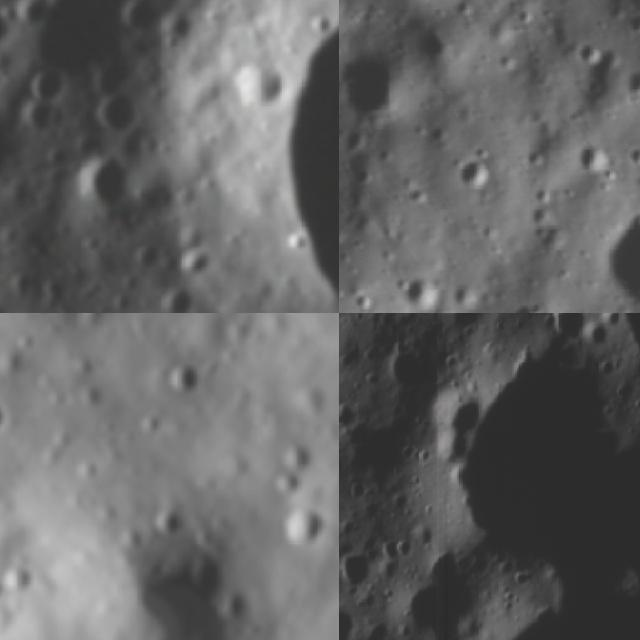crater: (14, 0, 339, 313), (88, 530, 277, 640), (401, 551, 495, 640), (60, 137, 151, 228), (339, 42, 409, 130), (81, 72, 157, 150), (78, 29, 154, 106), (264, 489, 339, 565), (0, 88, 41, 201), (23, 51, 85, 113), (608, 195, 640, 313), (139, 492, 199, 552), (153, 352, 213, 406), (52, 313, 136, 346), (447, 151, 489, 199), (568, 134, 606, 185), (276, 436, 319, 481), (541, 313, 596, 348), (402, 268, 443, 313), (0, 560, 38, 603), (0, 0, 26, 59), (339, 548, 371, 590), (270, 464, 308, 499), (0, 380, 19, 449), (72, 453, 108, 487), (134, 407, 167, 441), (626, 63, 640, 103), (0, 573, 6, 604)
